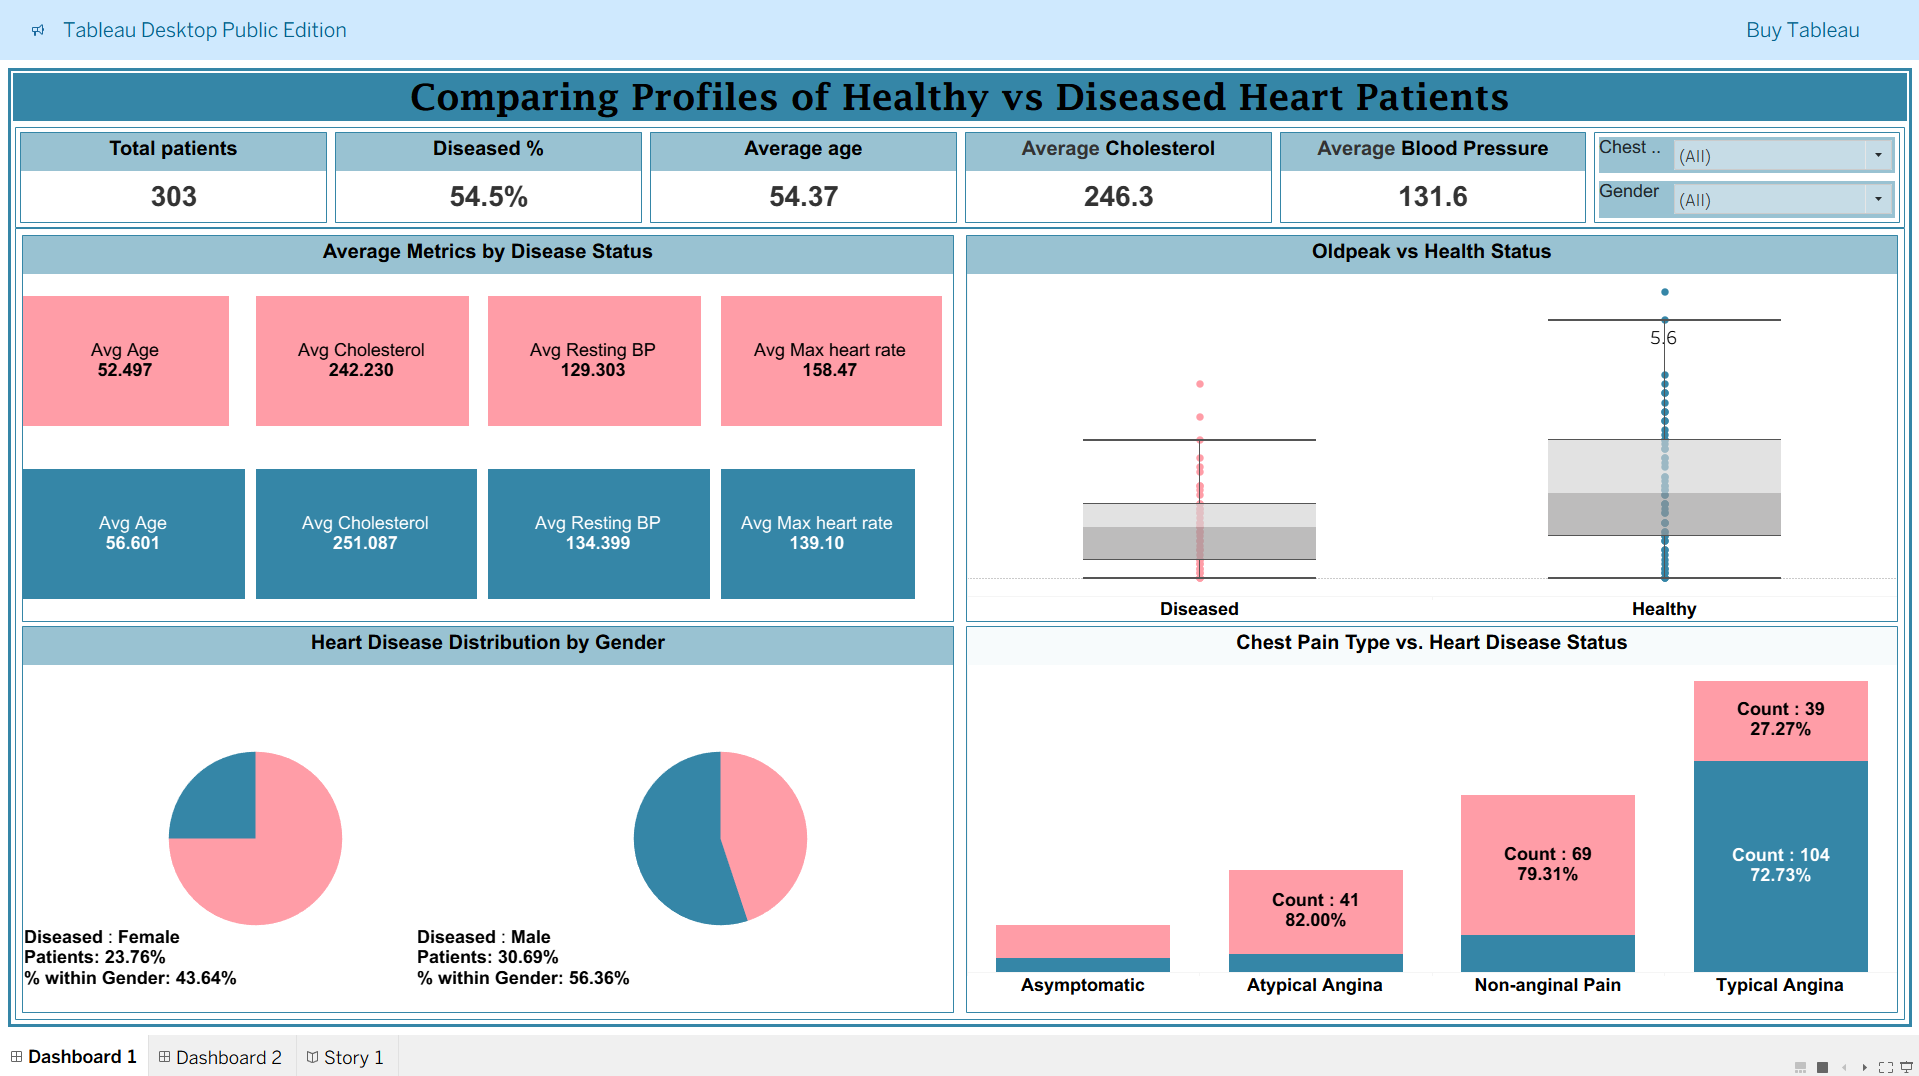

The dashboard page shown, as its layout file describes it:
{"tool":"tableau","page":{"name":"Dashboard 1","canvas":[1000,1000],"units":"permille","ordinal":0},"visuals":[{"type":"worksheet","title":"Filter","mark":"Automatic","box":[836.7,12.1,155.9,56.3]},{"type":"title","box":[5.8,14.7,988.3,69.7]},{"type":"worksheet","title":"Total patients","mark":"Automatic","box":[8.5,91.2,164.2,132.7]},{"type":"worksheet","title":"% Diseased","mark":"Automatic","box":[172.7,91.2,164.2,132.7]},{"type":"worksheet","title":"AVG Age","mark":"Automatic","box":[336.9,91.2,163.7,132.7]},{"type":"worksheet","title":"AVG Cholesterol","mark":"Automatic","box":[500.5,91.2,163.7,132.7]},{"type":"worksheet","title":"AVG Blood Pressure","mark":"Automatic","box":[664.2,91.2,163.7,132.7]},{"type":"filter","title":"Filter","param":"[federated.1xqoomm09mymze1dq401p0kzggmd].[none:Calculation_935622861476827140:nk","box":[830.5,97.9,158.3,59.6]},{"type":"filter","title":"Filter","param":"[federated.1xqoomm09mymze1dq401p0kzggmd].[none:Calculation_1708553145440559105:n","box":[830.5,157.5,158.3,59.7]},{"type":"worksheet","title":"Bar Chart","mark":"Automatic","rows":["Calculation_1708553145440133120"],"cols":["age","chol","trestbps","thalach"],"box":[10.6,231.9,487.2,371.3]},{"type":"worksheet","title":"Box Plot","mark":"Circle","rows":["oldpeak"],"cols":["Calculation_1708553145440133120"],"box":[502.1,231.9,487.2,371.3]},{"type":"worksheet","title":"Pie","mark":"Pie","cols":["Calculation_1708553145440559105"],"box":[10.6,603.2,487.2,370]},{"type":"worksheet","title":"Stacked Bar","mark":"Automatic","rows":["Healthcare_data.csv_2AFA6BBEC7784C9DB82E16D4CC513893"],"cols":["Calculation_935622861476827140"],"box":[502.1,603.2,487.2,370]}]}

Visuals, with their boxes on the dashboard's canvas, which has no fixed pixel size, in thousandths of its width and height (x1, y1, x2, y2). These are canvas units, not pixel positions in the 1919x1076 screenshot, which may show the page scaled, cropped or inside an application window:
"Filter" worksheet: [837,12,993,68]
title: [6,15,994,84]
"Total patients" worksheet: [8,91,173,224]
"% Diseased" worksheet: [173,91,337,224]
"AVG Age" worksheet: [337,91,501,224]
"AVG Cholesterol" worksheet: [500,91,664,224]
"AVG Blood Pressure" worksheet: [664,91,828,224]
"Filter" filter: [830,98,989,158]
"Filter" filter: [830,158,989,217]
"Bar Chart" worksheet: [11,232,498,603]
"Box Plot" worksheet (Circle marks): [502,232,989,603]
"Pie" worksheet (Pie marks): [11,603,498,973]
"Stacked Bar" worksheet: [502,603,989,973]
